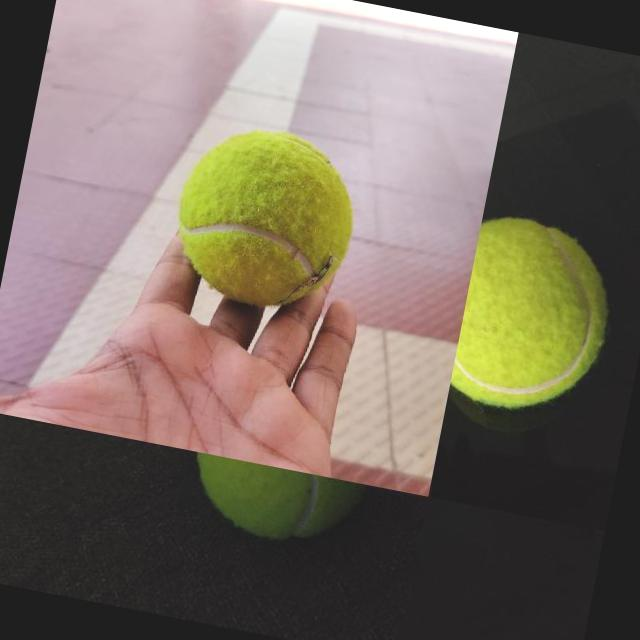tennis-ball: (162, 116, 368, 322), (448, 210, 626, 426), (179, 451, 374, 556)
